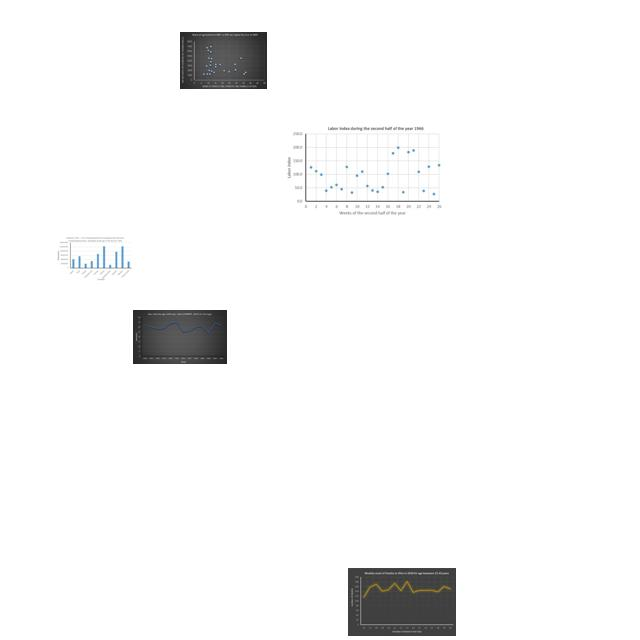Graph: (286, 124, 443, 216), (348, 568, 456, 636), (133, 310, 227, 364), (180, 32, 267, 89), (57, 236, 133, 281)
